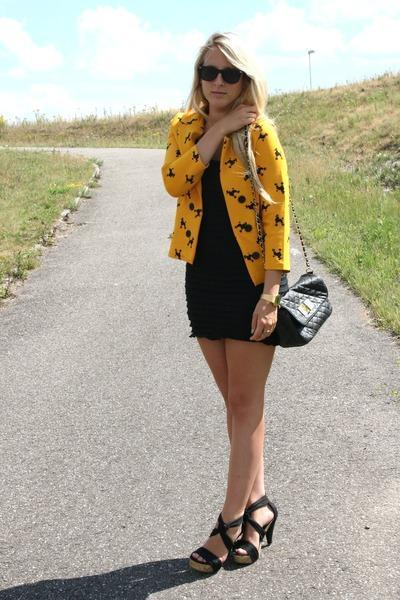bag: (260, 271, 331, 347)
dress: (185, 156, 263, 341)
jacket: (162, 108, 313, 284)
shoe: (191, 504, 275, 578)
sunglass: (195, 61, 251, 99)
